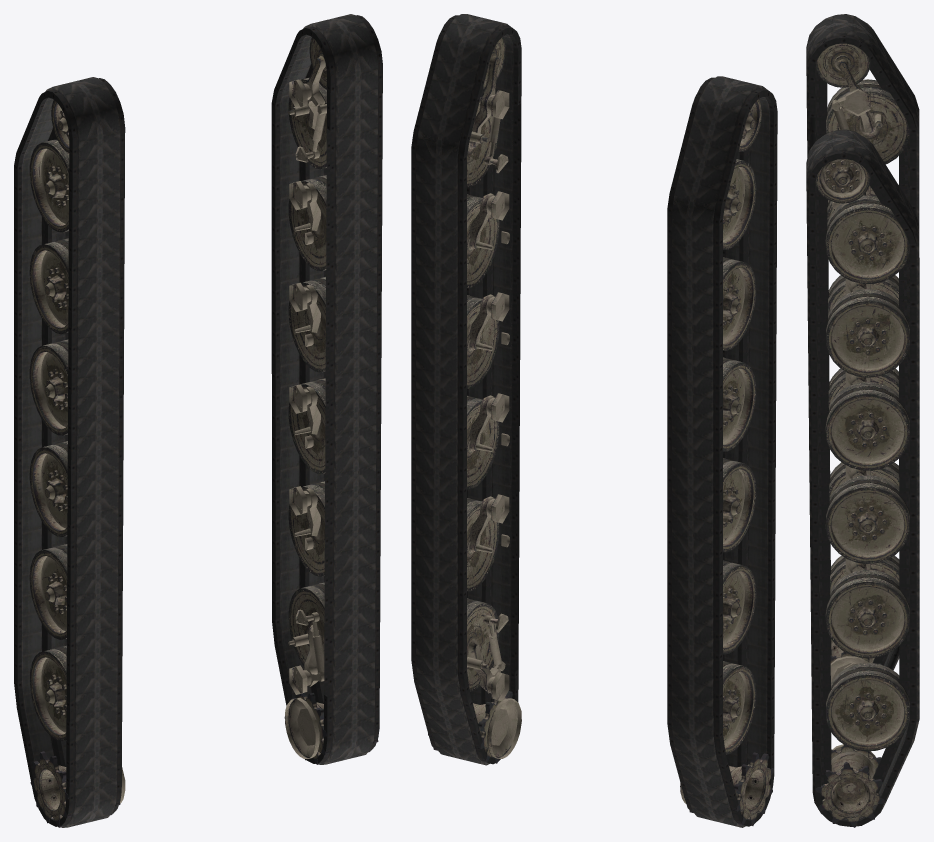
File: Chassis.glb
3 views of the same model, side by side, from view 1: azimuth 30°, elevation 25°; view 2: azimuth 150°, elevation 25°; view 3: azimuth 270°, elevation 25° (orthographic). The views are drawn at different scales.
Visible parts, largest first — view 1: set_0_group_0, set_1_group_0, set_3_group_0, set_2_group_0; view 2: set_0_group_0, set_1_group_0, set_3_group_0, set_2_group_0; view 3: set_3_group_0, set_1_group_0, set_2_group_0, set_0_group_0.
Part boxes in pixels (left/top/right/bottom): set_0_group_0: left=14, top=77, right=125, bottom=827; set_1_group_0: left=271, top=14, right=382, bottom=764; set_3_group_0: left=284, top=37, right=378, bottom=764; set_2_group_0: left=29, top=100, right=125, bottom=827; set_0_group_0: left=667, top=76, right=777, bottom=827; set_1_group_0: left=411, top=14, right=521, bottom=765; set_3_group_0: left=428, top=37, right=521, bottom=763; set_2_group_0: left=680, top=99, right=774, bottom=825; set_3_group_0: left=815, top=159, right=909, bottom=827; set_1_group_0: left=806, top=129, right=919, bottom=826; set_2_group_0: left=815, top=43, right=909, bottom=682; set_0_group_0: left=806, top=14, right=919, bottom=670.
Bounding box in the file's own units: 3.17 × 7.18 × 1.09.
4 materials, 4 textured.
